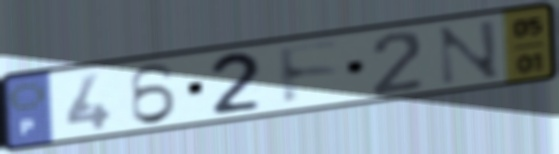2: (207, 47, 271, 121), (367, 28, 429, 98)
4: (62, 70, 115, 133)
6: (127, 61, 180, 127)
F: (274, 38, 347, 110)
N: (434, 17, 503, 89)
